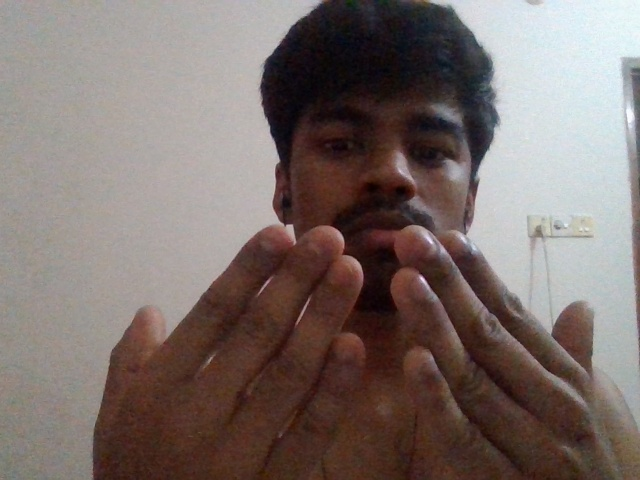Thanks: (68, 213, 640, 480)
